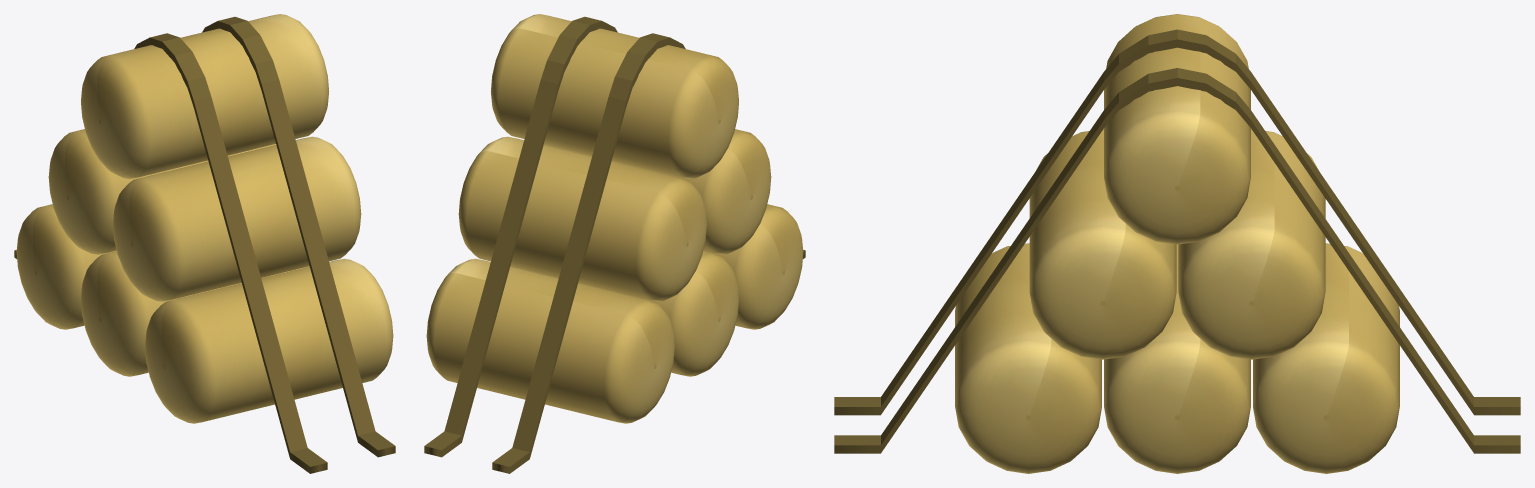
Rendered from Straw bag.fbx.
The picture shows the model from 3 angles, left to right: view 1: azimuth 30°, elevation 25°; view 2: azimuth 150°, elevation 25°; view 3: azimuth 270°, elevation 25°; orthographic projection. The views are drawn at different scales.
Parts seen in each view (by area): view 1: pSphere3, pSphere5, pSphere6, pPlane1, pSphere4, pSphere1, pSphere2; view 2: pSphere2, pSphere4, pSphere6, pPlane1, pSphere5, pSphere1, pSphere3; view 3: pPlane1, pSphere6, pSphere3, pSphere2, pSphere4, pSphere5, pSphere1.
Part boxes in pixels (bbox=[...]): pSphere3: bbox=[145, 258, 393, 423]; pSphere5: bbox=[113, 136, 361, 301]; pSphere6: bbox=[81, 14, 328, 178]; pPlane1: bbox=[14, 16, 395, 473]; pSphere4: bbox=[48, 129, 276, 254]; pSphere1: bbox=[81, 251, 309, 376]; pSphere2: bbox=[16, 204, 116, 329]; pSphere2: bbox=[426, 258, 674, 423]; pSphere4: bbox=[458, 136, 706, 301]; pSphere6: bbox=[491, 14, 738, 178]; pPlane1: bbox=[424, 16, 805, 473]; pSphere5: bbox=[543, 129, 771, 254]; pSphere1: bbox=[510, 251, 738, 376]; pSphere3: bbox=[703, 204, 803, 329]; pPlane1: bbox=[834, 29, 1520, 453]; pSphere6: bbox=[1104, 14, 1250, 244]; pSphere3: bbox=[955, 243, 1101, 473]; pSphere2: bbox=[1253, 243, 1399, 473]; pSphere4: bbox=[1178, 129, 1325, 359]; pSphere5: bbox=[1029, 129, 1176, 359]; pSphere1: bbox=[1104, 244, 1250, 473].
Bounding box in the file's own units: 3.76 × 5.57 × 9.22.
Materials: 1 (1 with a texture image).
